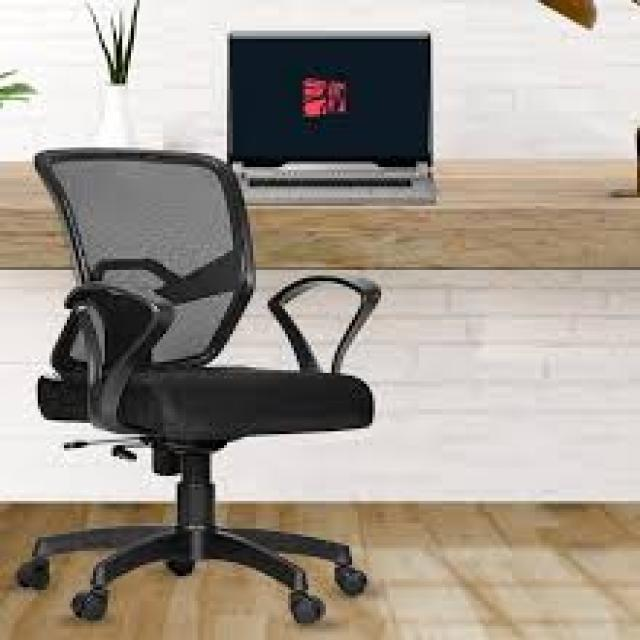chair: (14, 146, 374, 626)
